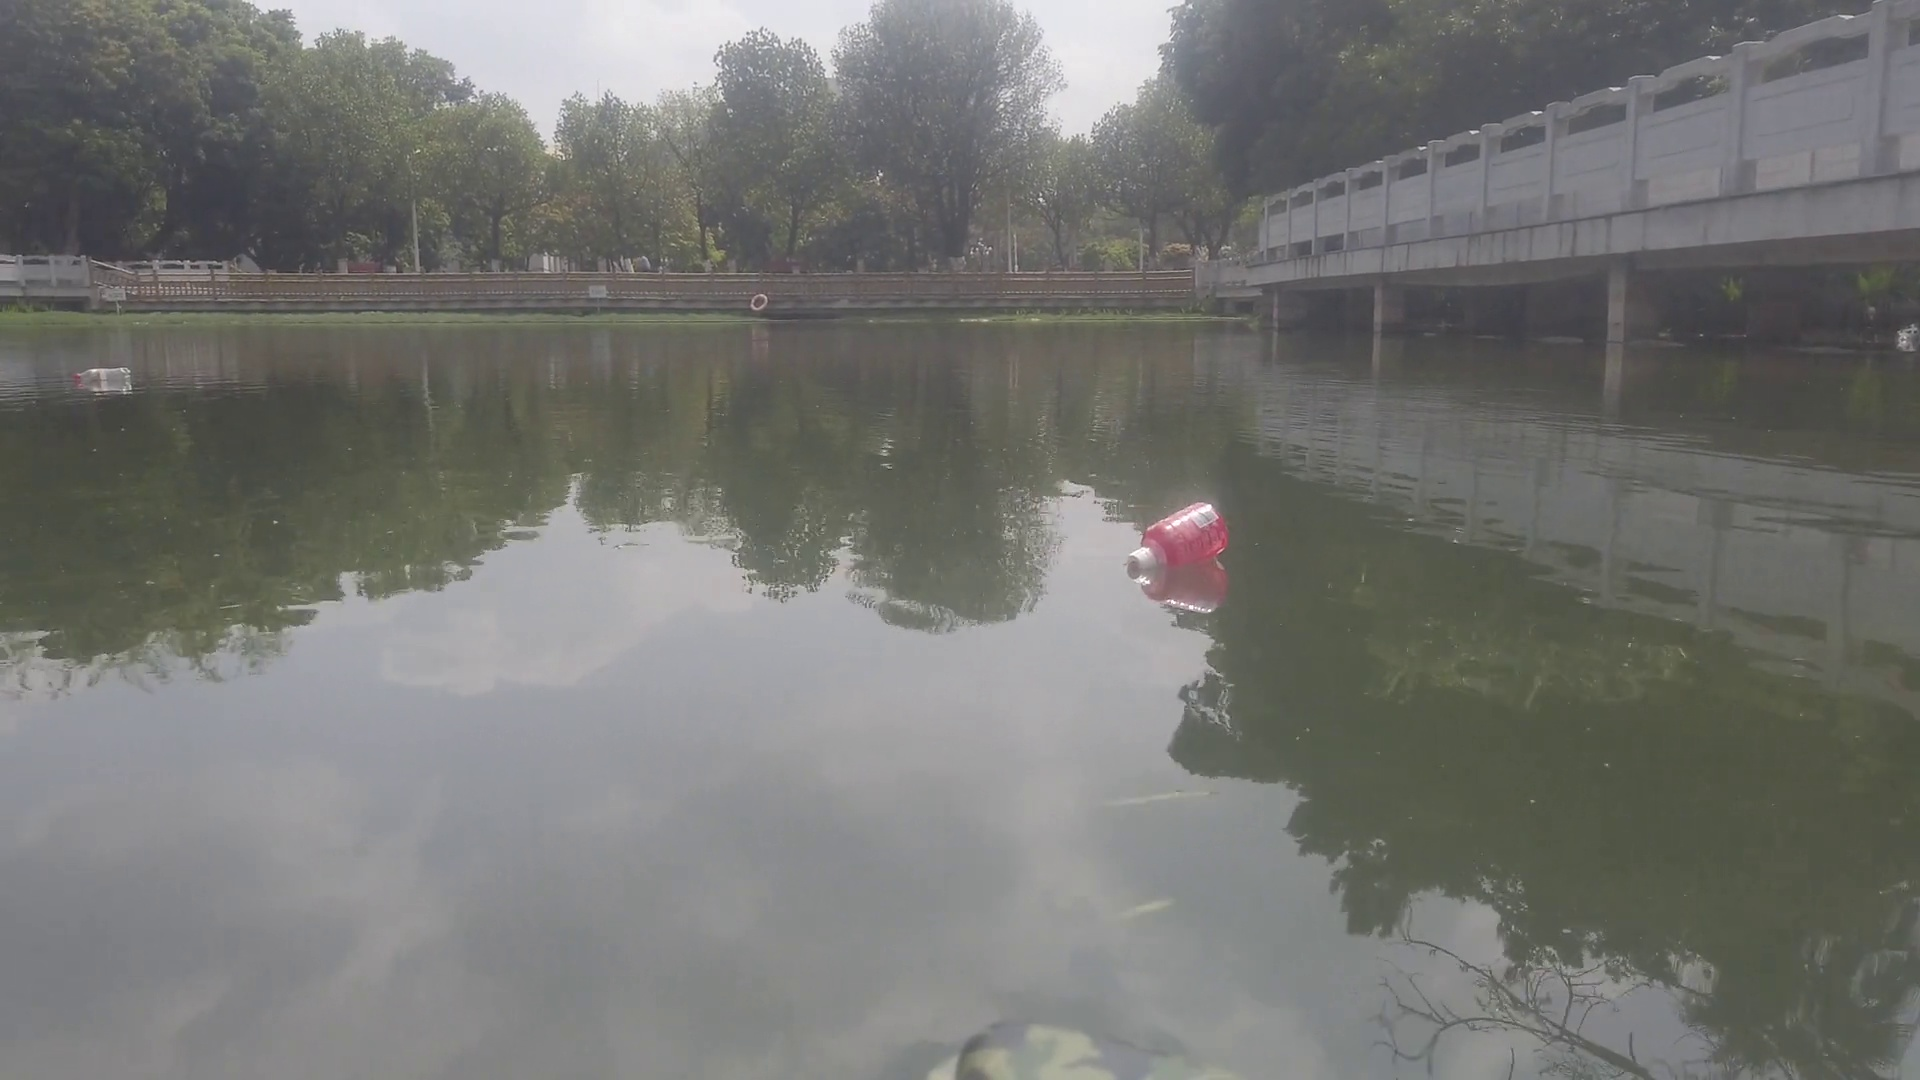bottle: (1120, 497, 1232, 571), (70, 367, 135, 382)
